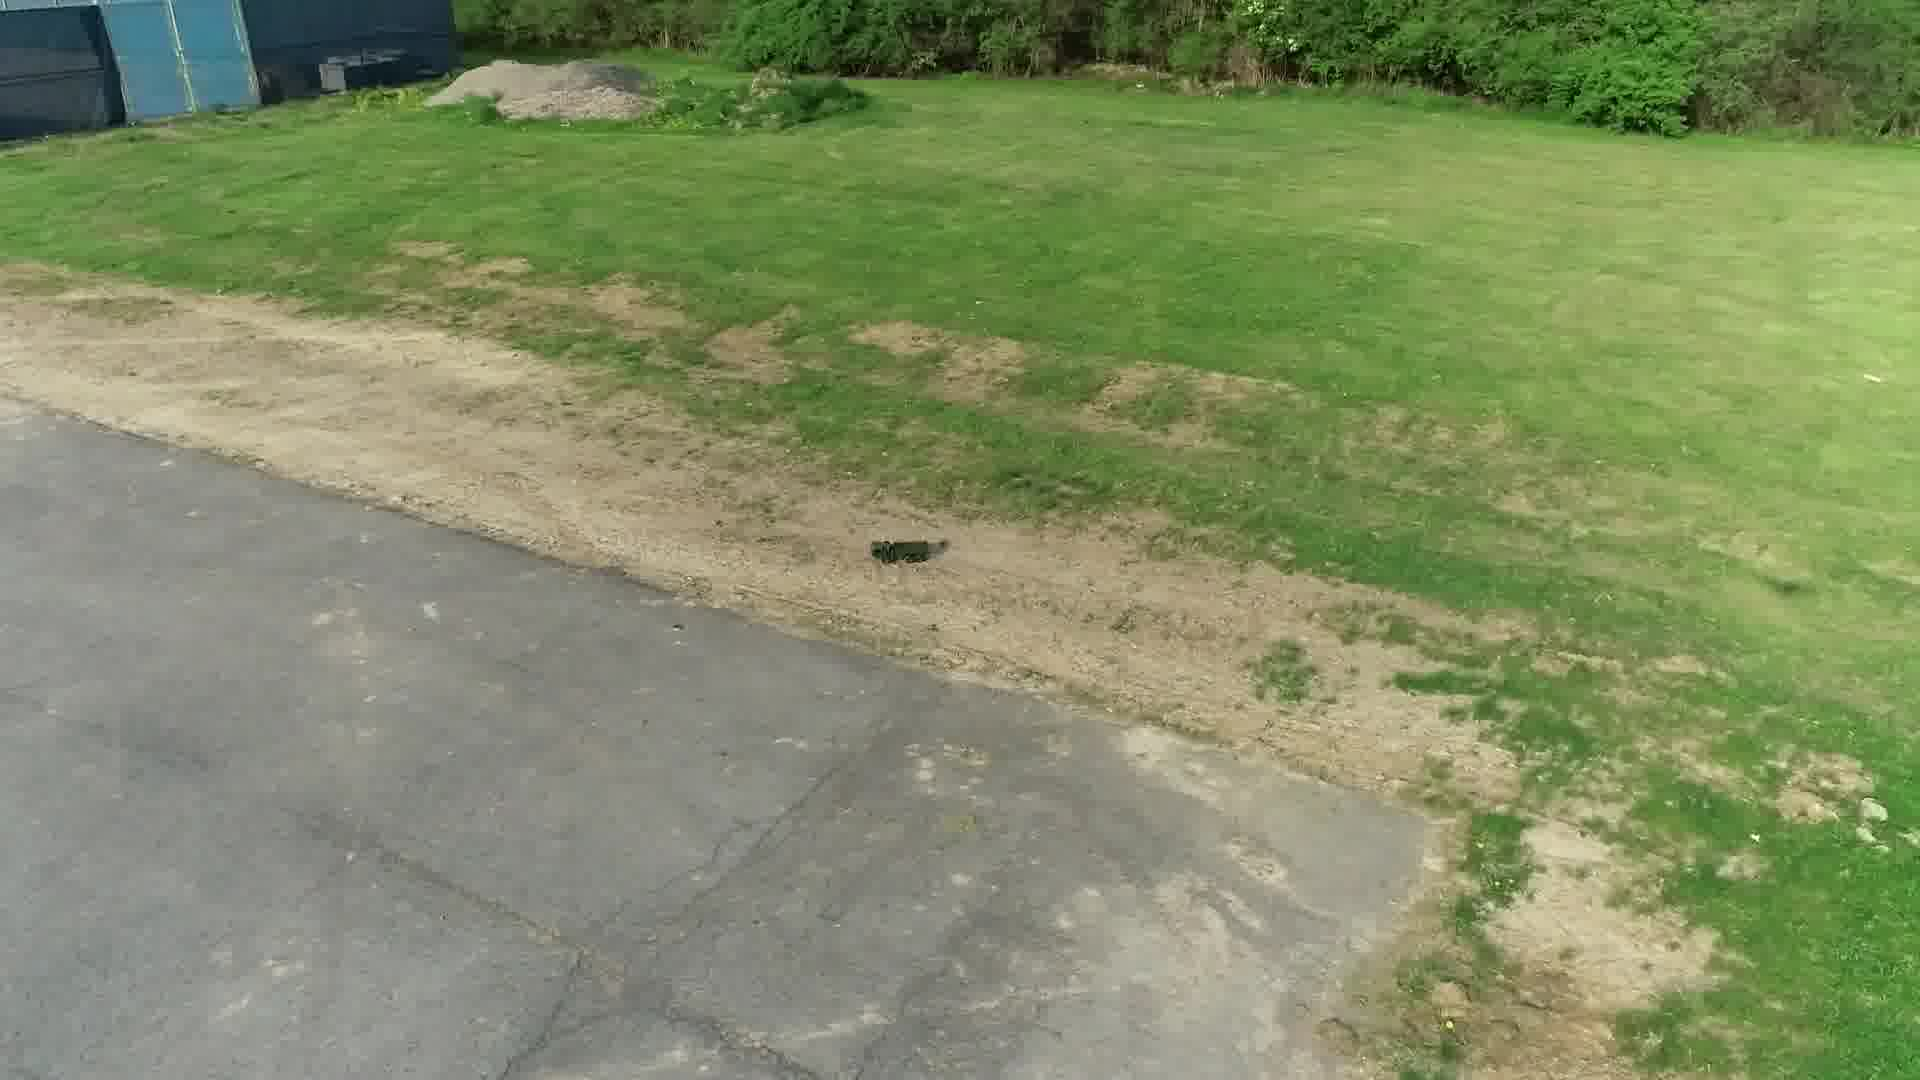transporter9: (866, 535, 935, 564)
